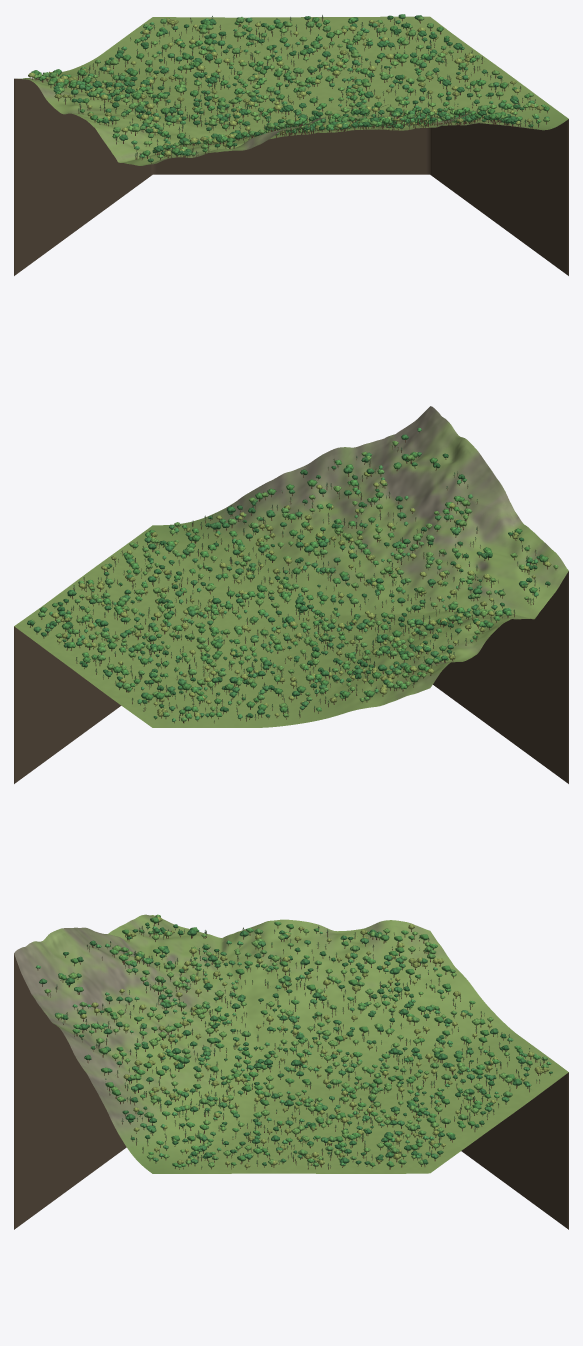
3 views of the same model, one above another, from view 1: azimuth 30°, elevation 25°; view 2: azimuth 150°, elevation 25°; view 3: azimuth 270°, elevation 25° (orthographic).
Parts seen in each view (by area): view 1: hex_side_cut, terrain, broadleaf_canopy, trunks, conifer_canopy; view 2: terrain, broadleaf_canopy, hex_side_cut, trunks, conifer_canopy; view 3: terrain, broadleaf_canopy, hex_side_cut, trunks, conifer_canopy.
Part boxes in pixels (box(x1,y1,x2,y2)): hex_side_cut: box(14, 78, 568, 275); terrain: box(18, 16, 568, 165); broadleaf_canopy: box(28, 14, 549, 162); trunks: box(32, 16, 547, 163); conifer_canopy: box(47, 15, 539, 157); terrain: box(14, 406, 568, 727); broadleaf_canopy: box(27, 427, 558, 721); hex_side_cut: box(14, 571, 568, 783); trunks: box(30, 432, 556, 723); conifer_canopy: box(45, 446, 547, 720); terrain: box(14, 914, 568, 1173); broadleaf_canopy: box(35, 914, 552, 1167); hex_side_cut: box(14, 954, 568, 1229); trunks: box(37, 922, 550, 1169); conifer_canopy: box(49, 926, 543, 1167).
Bounding box in the file's own units: 4330 × 2760 × 5000.
6 materials, 1 textured.
